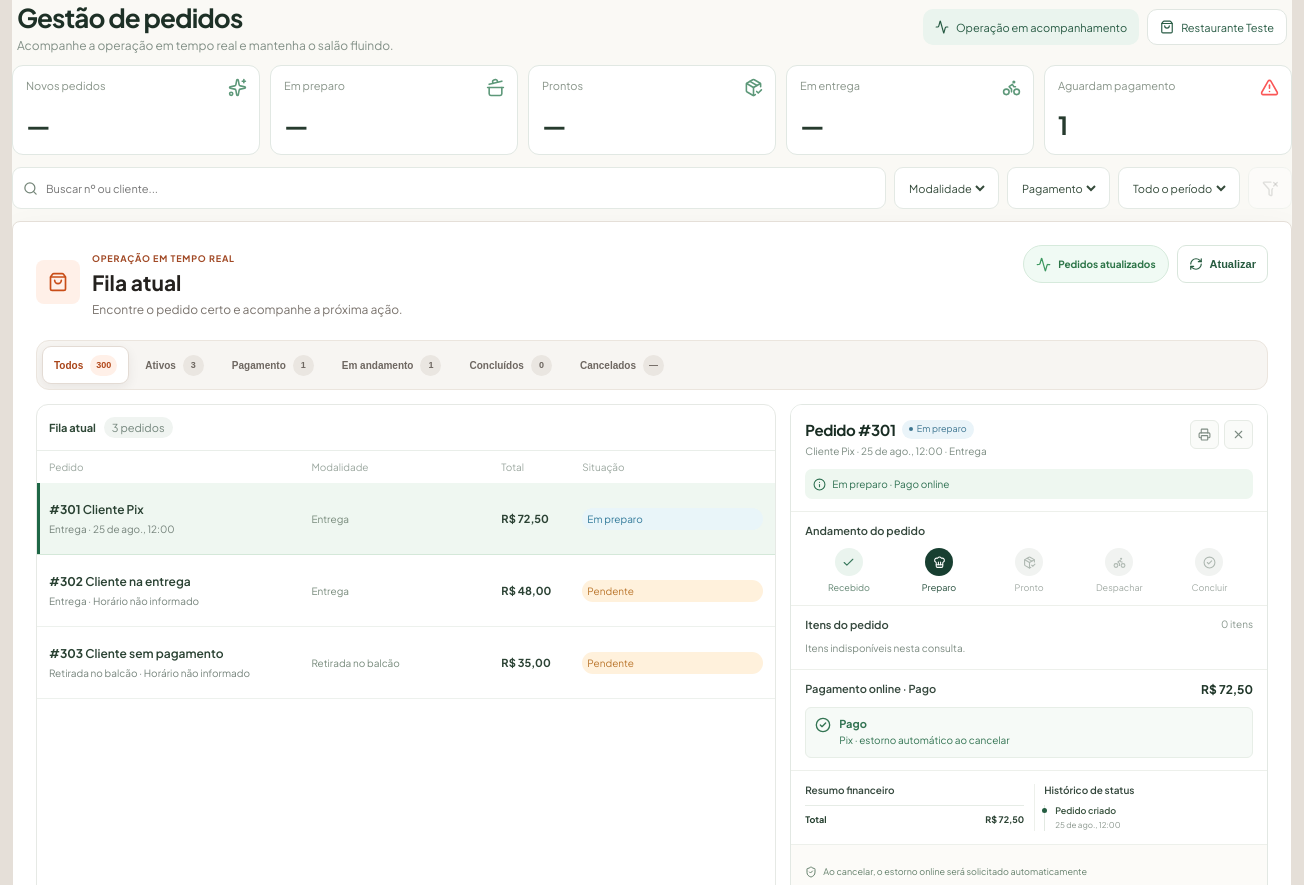
AdminOrders › usa indicadores globais e envia o filtro da fila ao servidor
The width and height of the screenshot is (1304, 885).
Click the button "Pagamento 1" at (273, 365), box [220,346,326,384]
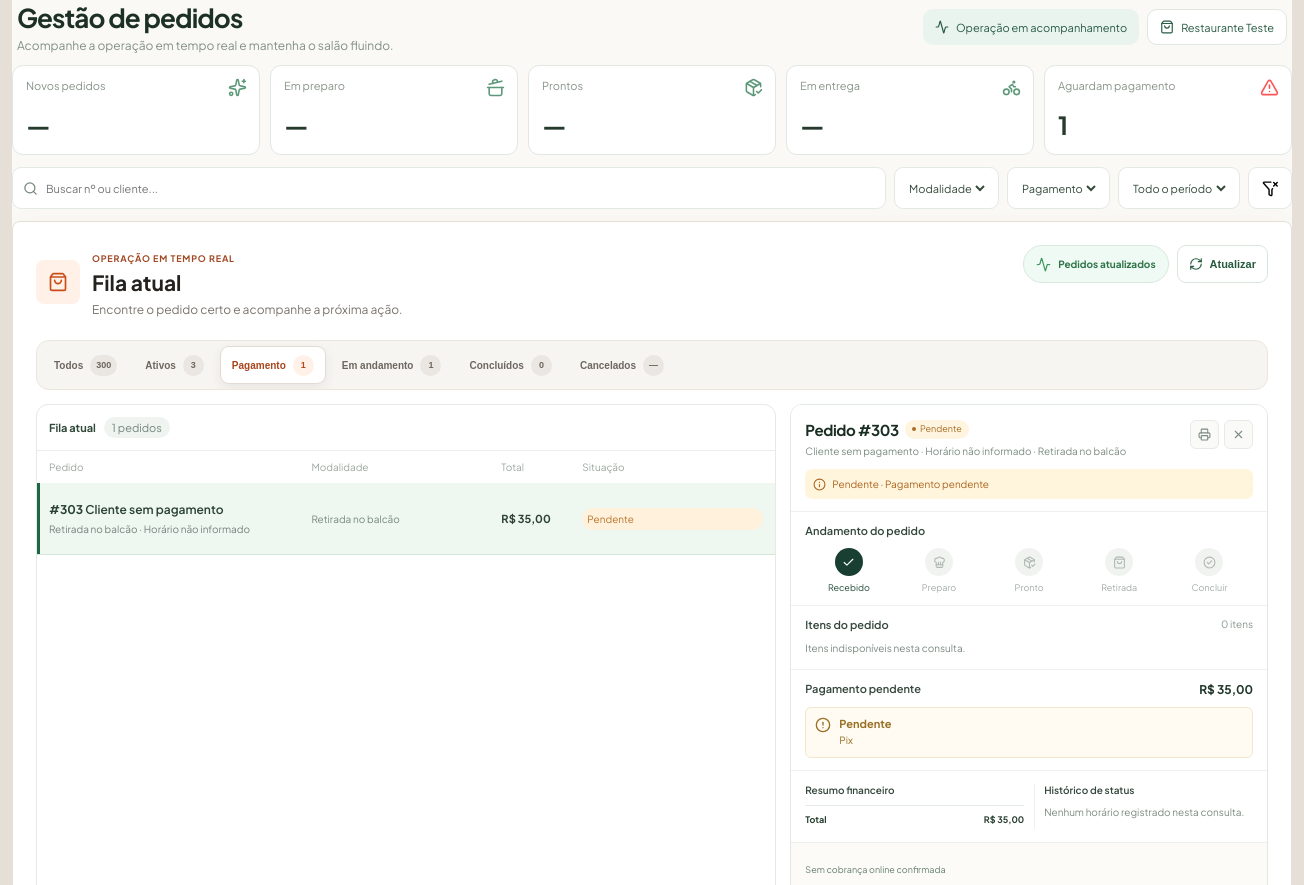
Expected: the text "#303" is shown, [49,502,83,516]
Result: the text "#301" is gone
Click the button "Ativos 3" at (175, 365), box [133,346,216,384]
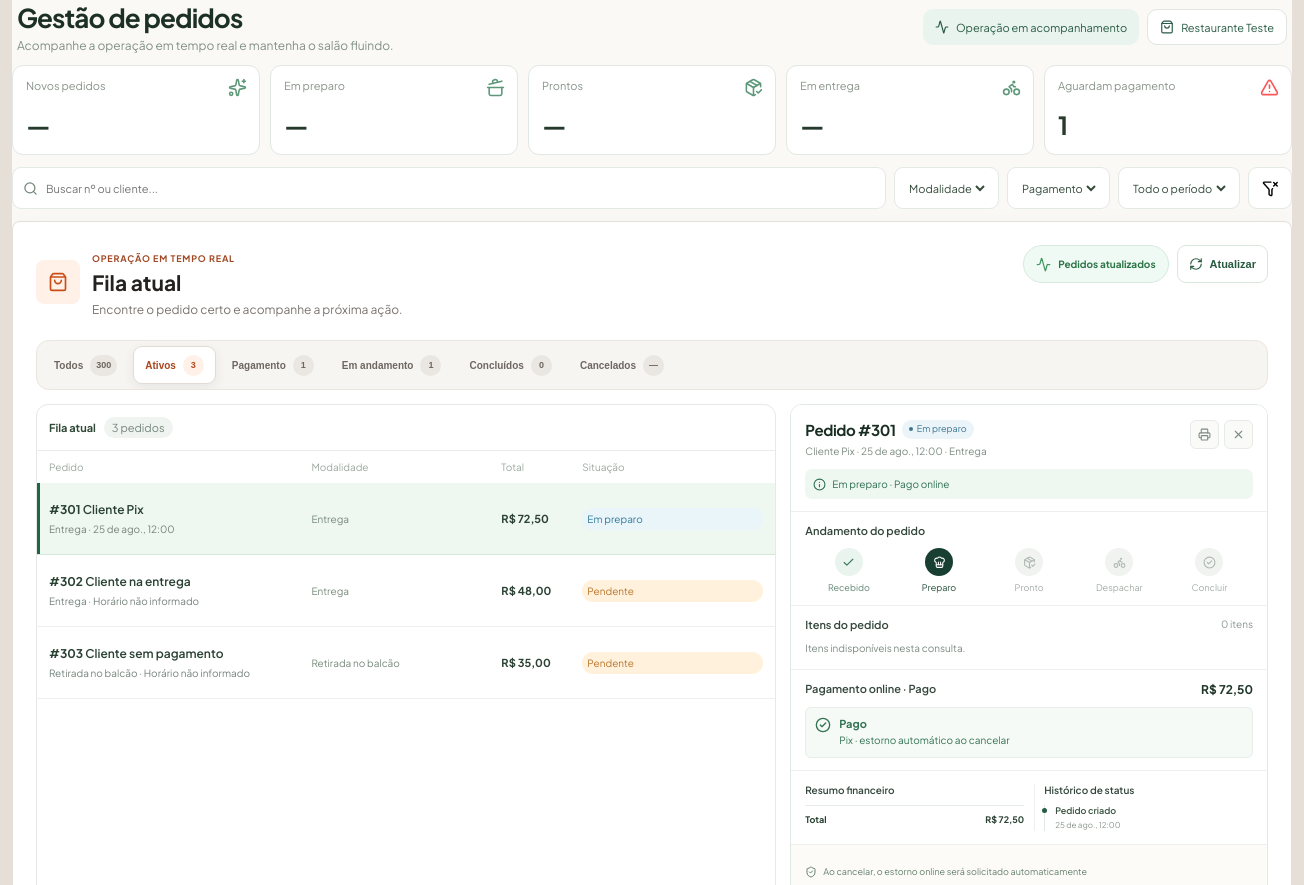
Result: the button with aria-label "Ver detalhes do pedido #302 de Cliente na entrega" is shown
Click the button with aria-label "Ver detalhes do pedido #302 de Cliente na entrega" at (66, 581), box [37,555,775,627]
(page scrolled)
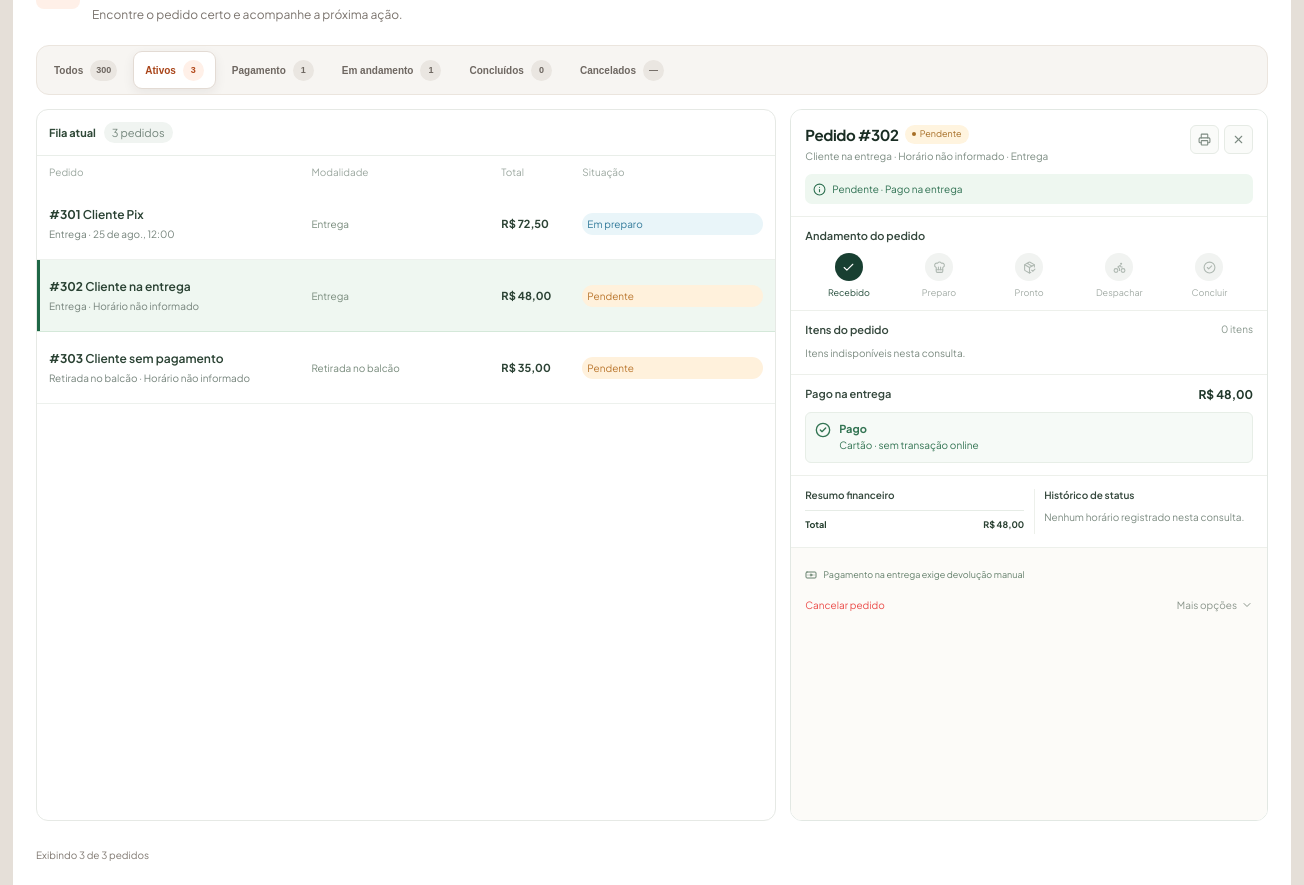
Expected: the element with class "selected-order-detail" is shown, [790,109,1268,821]
Result: the element with class "selected-order-detail" shows "Pago na entrega" at [805,386,891,400]
